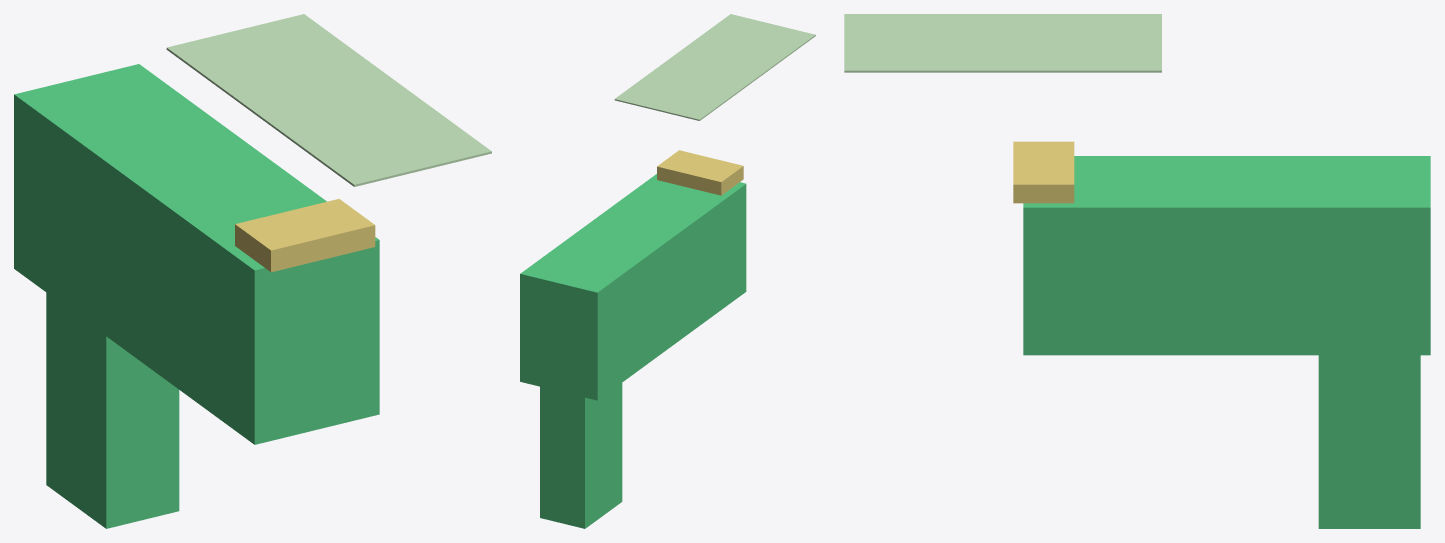
File: prop_money_gun_placeholder_v0.glb
3 renders of one model, left to right at view 1: azimuth 30°, elevation 25°; view 2: azimuth 150°, elevation 25°; view 3: azimuth 270°, elevation 25°, orthographic. The views are drawn at different scales.
Visible parts, largest first — view 1: Gun_Body, Bill, Gun_Grip, Gun_Slot; view 2: Gun_Body, Gun_Grip, Bill, Gun_Slot; view 3: Gun_Body, Bill, Gun_Grip, Gun_Slot.
Part boxes in pixels (left/top/right/bottom): Gun_Body: left=14, top=64, right=379, bottom=444; Bill: left=166, top=14, right=491, bottom=186; Gun_Grip: left=46, top=292, right=179, bottom=528; Gun_Slot: left=235, top=199, right=375, bottom=272; Gun_Body: left=520, top=174, right=746, bottom=400; Gun_Grip: left=540, top=383, right=622, bottom=528; Bill: left=614, top=14, right=815, bottom=120; Gun_Slot: left=657, top=150, right=743, bottom=195; Gun_Body: left=1023, top=156, right=1430, bottom=355; Bill: left=844, top=14, right=1161, bottom=72; Gun_Grip: left=1318, top=355, right=1420, bottom=528; Gun_Slot: left=1013, top=141, right=1074, bottom=203.
Bounding box in the file's own units: 0.066 × 0.2555 × 0.288.
